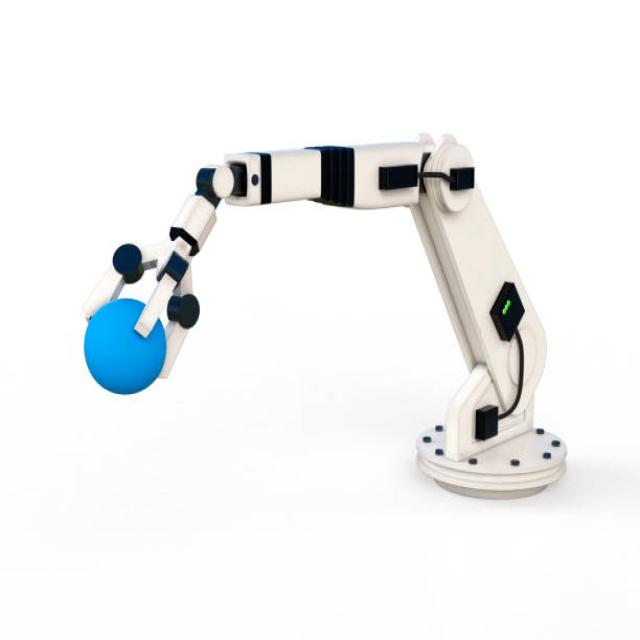Robotic-arm: (85, 116, 576, 510)
